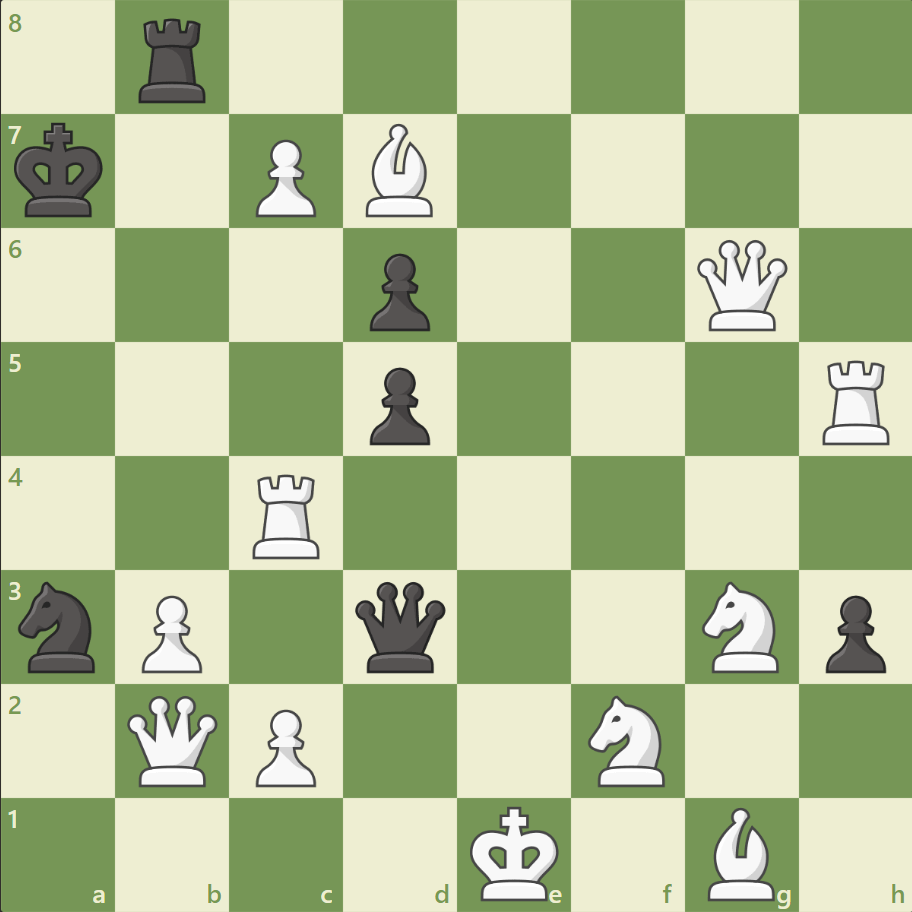B: (698, 801, 782, 904), (358, 120, 442, 222)
K: (465, 798, 565, 906)
N: (579, 688, 676, 791), (692, 575, 789, 677)
P: (247, 132, 322, 223), (133, 586, 208, 677), (247, 700, 322, 791)
Q: (691, 236, 790, 335), (124, 690, 223, 789)
R: (814, 352, 897, 449), (246, 466, 329, 563)
k: (11, 117, 111, 225)
n: (11, 575, 108, 677)
p: (361, 246, 435, 337), (361, 359, 435, 450), (815, 586, 889, 677)
q: (351, 576, 450, 676)
r: (133, 12, 215, 109)
